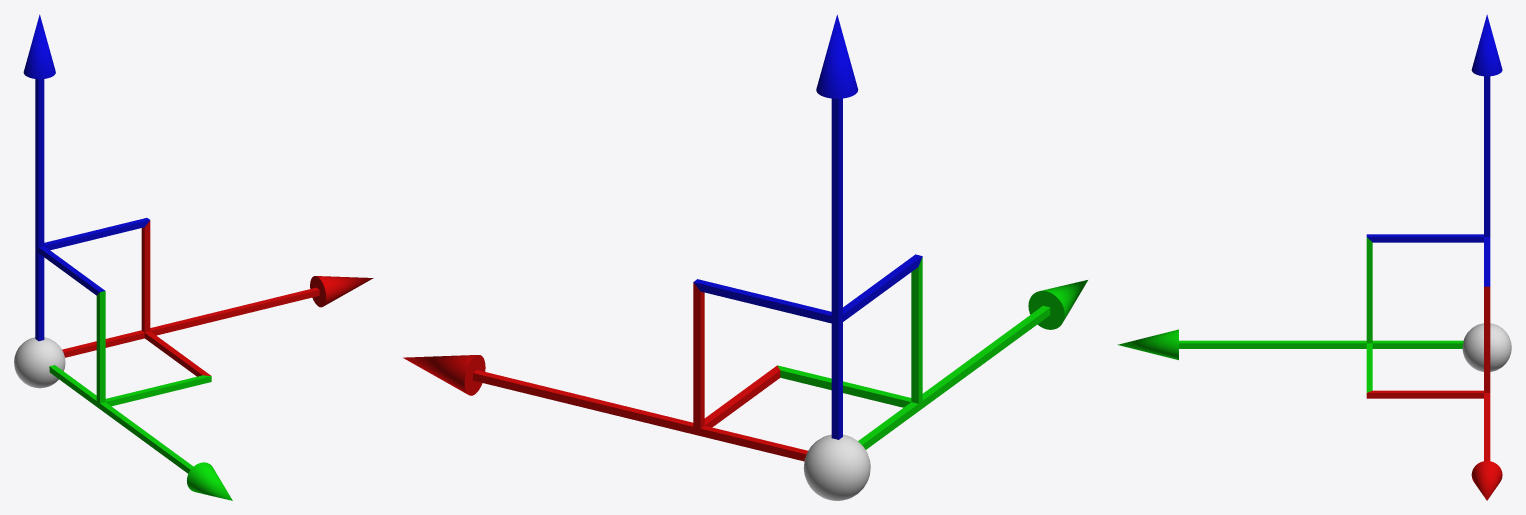
Rendered from SM_Gizmo_Location.glb.
The picture shows the model from 3 angles, left to right: view 1: azimuth 30°, elevation 25°; view 2: azimuth 150°, elevation 25°; view 3: azimuth 270°, elevation 25°; orthographic projection. The views are drawn at different scales.
Visible parts, largest first — view 1: Cube, Sphere, Cylinder, Cylinder.001, Cylinder.002; view 2: Cube, Sphere, Cylinder, Cylinder.001, Cylinder.002; view 3: Cube, Sphere, Cylinder, Cylinder.002, Cylinder.001.
Boxes of the visible parts, bbox=[...] form: Cube: bbox=[35, 79, 319, 473]; Sphere: bbox=[14, 337, 65, 388]; Cylinder: bbox=[23, 14, 55, 79]; Cylinder.001: bbox=[310, 276, 373, 307]; Cylinder.002: bbox=[187, 462, 232, 500]; Cube: bbox=[473, 98, 1050, 461]; Sphere: bbox=[803, 434, 870, 500]; Cylinder: bbox=[816, 14, 858, 98]; Cylinder.001: bbox=[403, 355, 485, 395]; Cylinder.002: bbox=[1028, 280, 1087, 329]; Cube: bbox=[1179, 76, 1490, 460]; Sphere: bbox=[1462, 323, 1511, 371]; Cylinder: bbox=[1471, 14, 1502, 76]; Cylinder.002: bbox=[1117, 329, 1178, 360]; Cylinder.001: bbox=[1471, 461, 1502, 500].
Bounding box in the file's own units: 0.7971 × 0.7945 × 0.7981.
